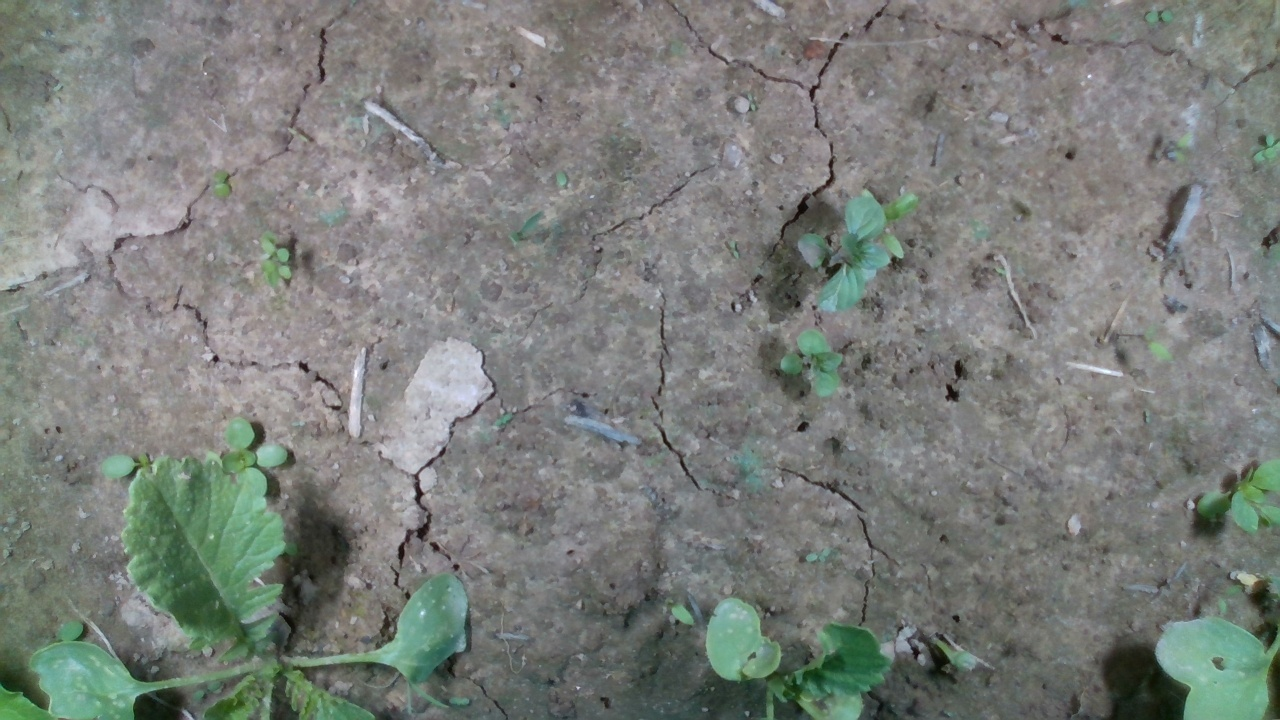weed: (777, 325, 847, 401), (208, 166, 233, 200)
